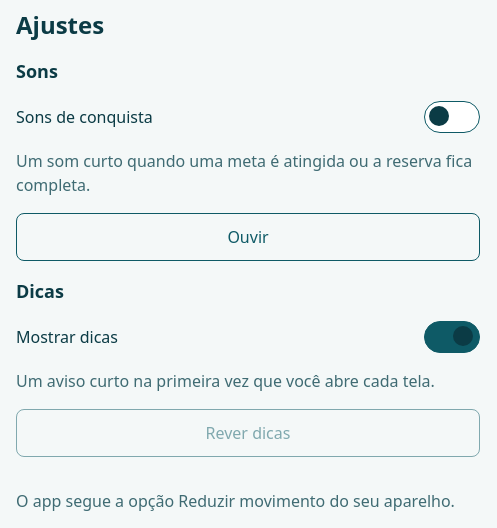
Scenario: SettingsPage › tipsSwitchIsOnAndTurnsOff
This screenshot has width=497, height=528.
Expected: the heading "Dicas" is shown, [16,279,64,303]
Click the switch named "Mostrar dicas" at (452, 337), box [424,321,480,353]
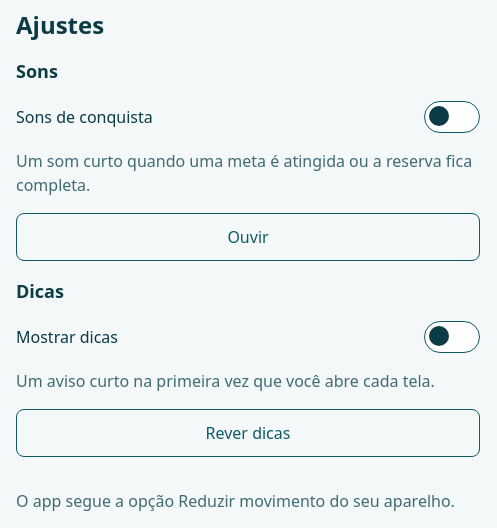
Expected: the switch named "Mostrar dicas" is not checked, [424,321,480,353]
